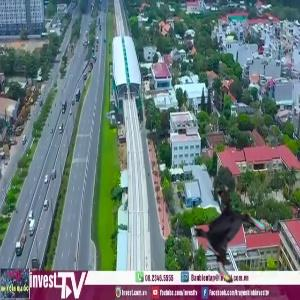drone: (184, 191, 271, 278)
